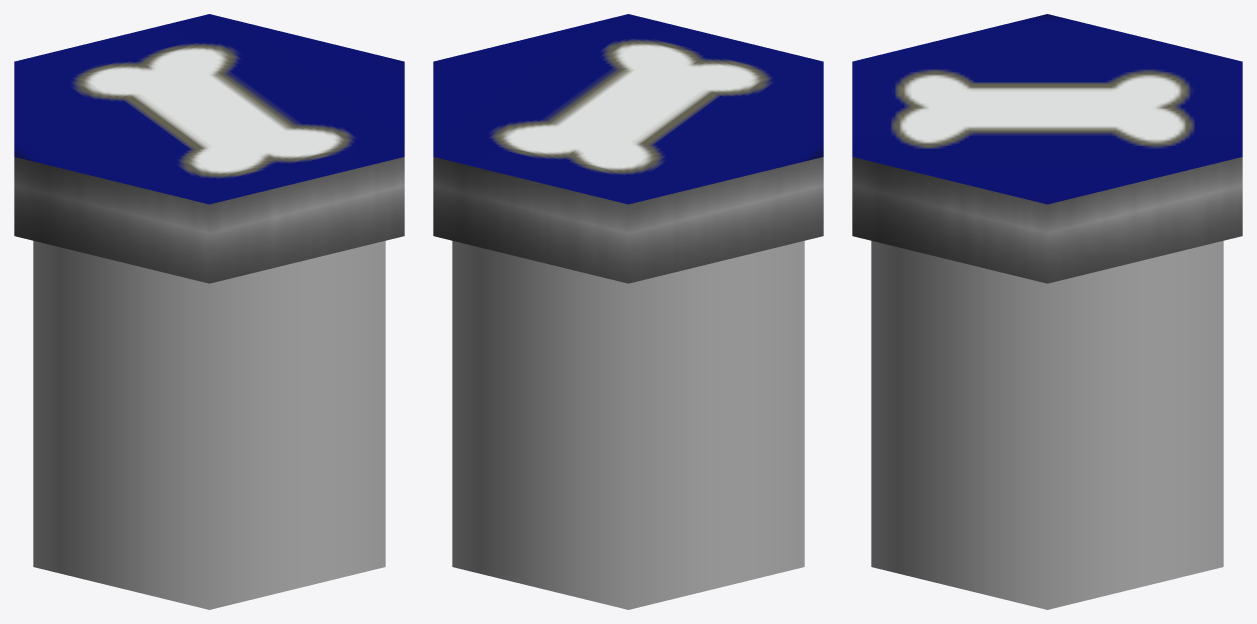
The model's file is Canister_G.FBX.
The picture shows the model from 3 angles, left to right: view 1: azimuth 30°, elevation 25°; view 2: azimuth 150°, elevation 25°; view 3: azimuth 270°, elevation 25°; orthographic projection.
Visible parts, largest first — view 1: Cannister; view 2: Cannister; view 3: Cannister.
Part boxes in pixels (x1,y1,x2,y2): Cannister: [14, 14, 404, 609]; Cannister: [433, 14, 823, 609]; Cannister: [852, 14, 1242, 609].
Bounding box in the file's own units: 39.12 × 39.72 × 33.88.
